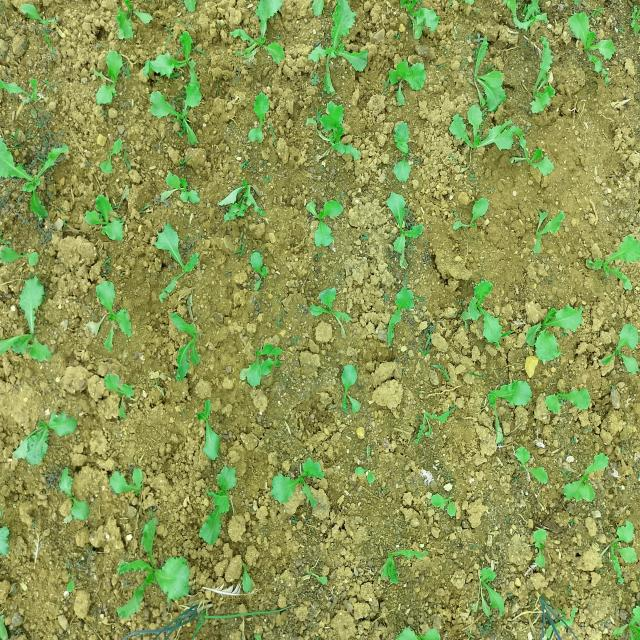Lettuce: (148, 54, 238, 156), (487, 77, 566, 179), (0, 131, 87, 210), (274, 433, 345, 529), (501, 282, 579, 368), (4, 385, 82, 466), (376, 52, 426, 129), (303, 196, 367, 253)
